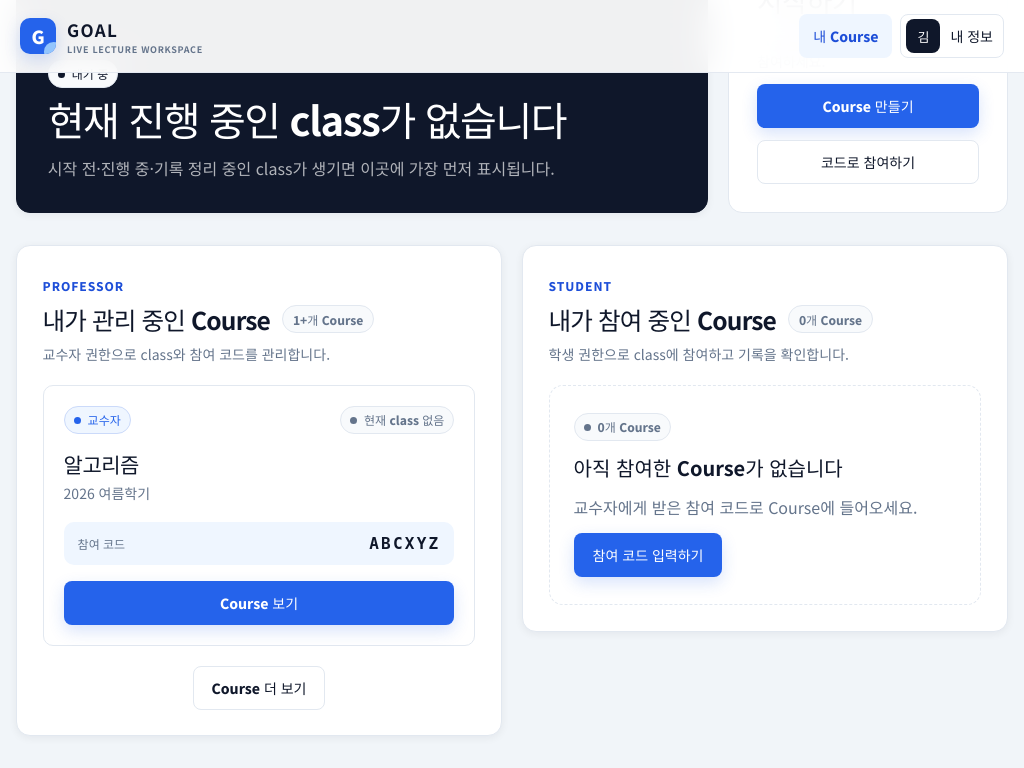
it: Course role flows › loads the next dashboard Course page with the documented cursor
This screenshot has width=1024, height=768.
(page scrolled)
Click the button "Course 더 보기" at coordinates (259, 688), box [192,666,326,710]
(page scrolled)
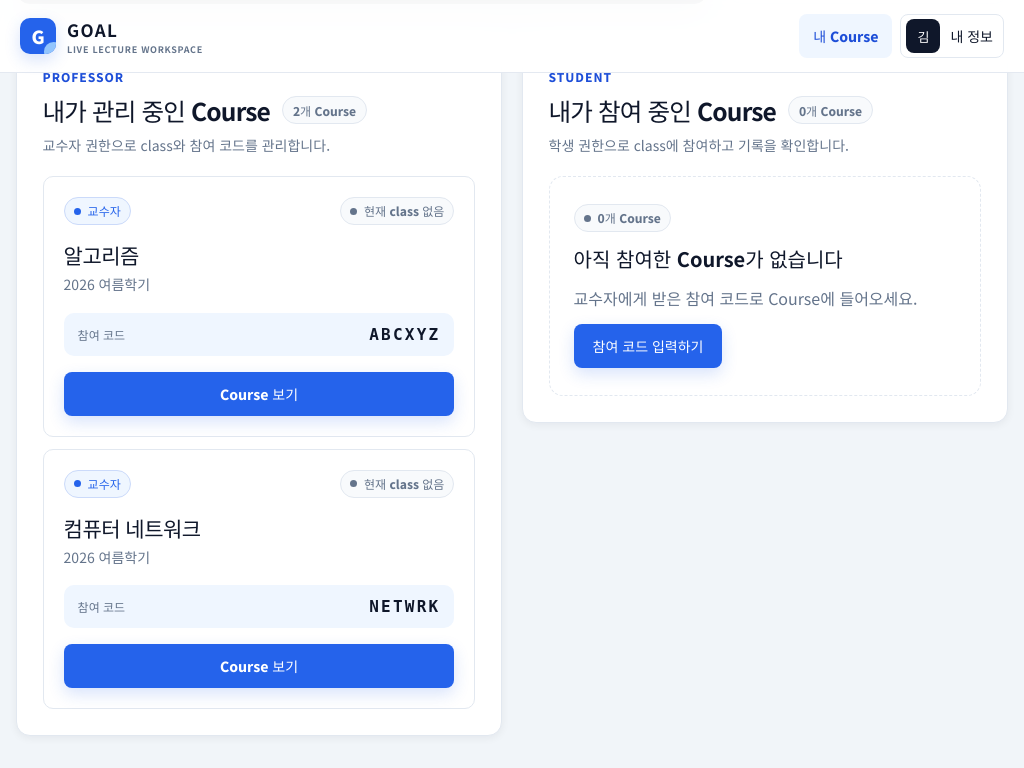
Result: the heading "컴퓨터 네트워크" is shown at [64,512,200,542]
Result: the text "NETWRK" is shown at [369,597,440,616]
